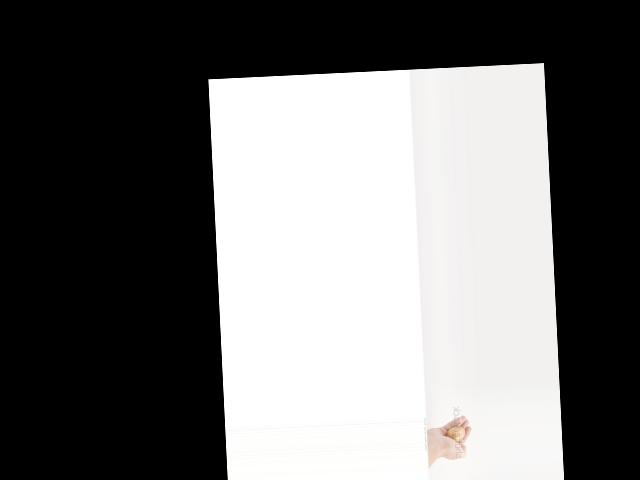egg: (446, 426, 465, 441)
